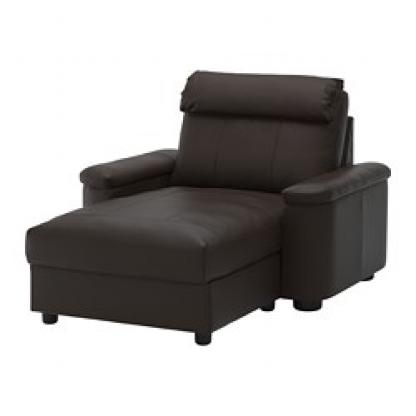Sofa: (18, 58, 391, 354)
